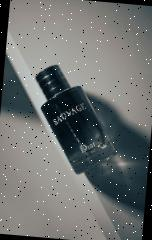glass: (27, 63, 125, 178)
